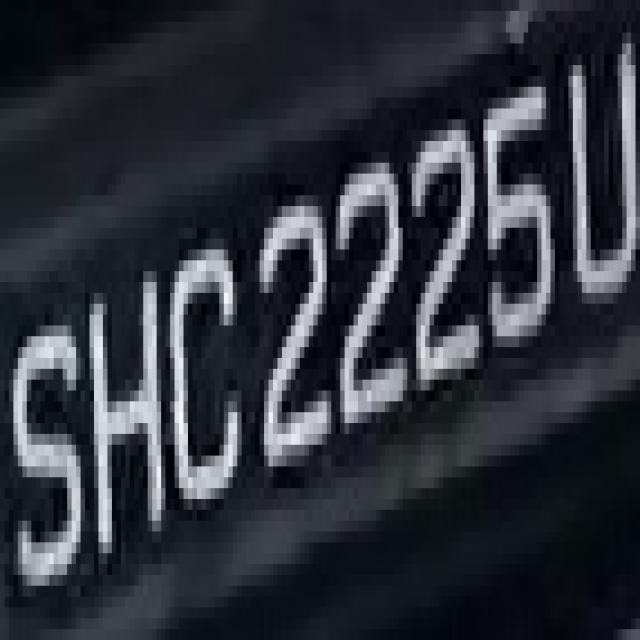2: (233, 195, 340, 499), (331, 141, 416, 477), (398, 109, 488, 412)
5: (465, 54, 555, 380)
C: (166, 206, 246, 553)
H: (85, 260, 170, 586)
S: (4, 282, 94, 607)
U: (560, 11, 636, 347)
